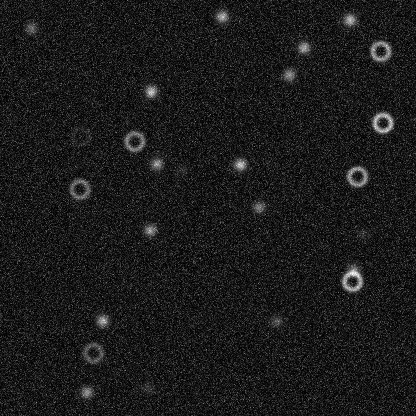Ring: (368, 38, 392, 62), (67, 176, 91, 200), (68, 124, 92, 148), (81, 340, 105, 364), (345, 164, 369, 188), (122, 129, 146, 153), (370, 110, 394, 134), (340, 269, 364, 293)
Spot: (213, 8, 229, 24), (94, 312, 110, 328), (139, 379, 155, 395), (232, 156, 248, 172), (354, 225, 370, 241), (78, 384, 94, 400), (141, 222, 157, 238), (23, 19, 39, 35), (268, 312, 284, 328), (280, 66, 296, 82), (250, 199, 266, 215), (174, 162, 190, 178), (341, 11, 357, 27), (345, 261, 361, 277), (148, 155, 164, 171), (295, 39, 311, 55), (142, 83, 158, 99)
